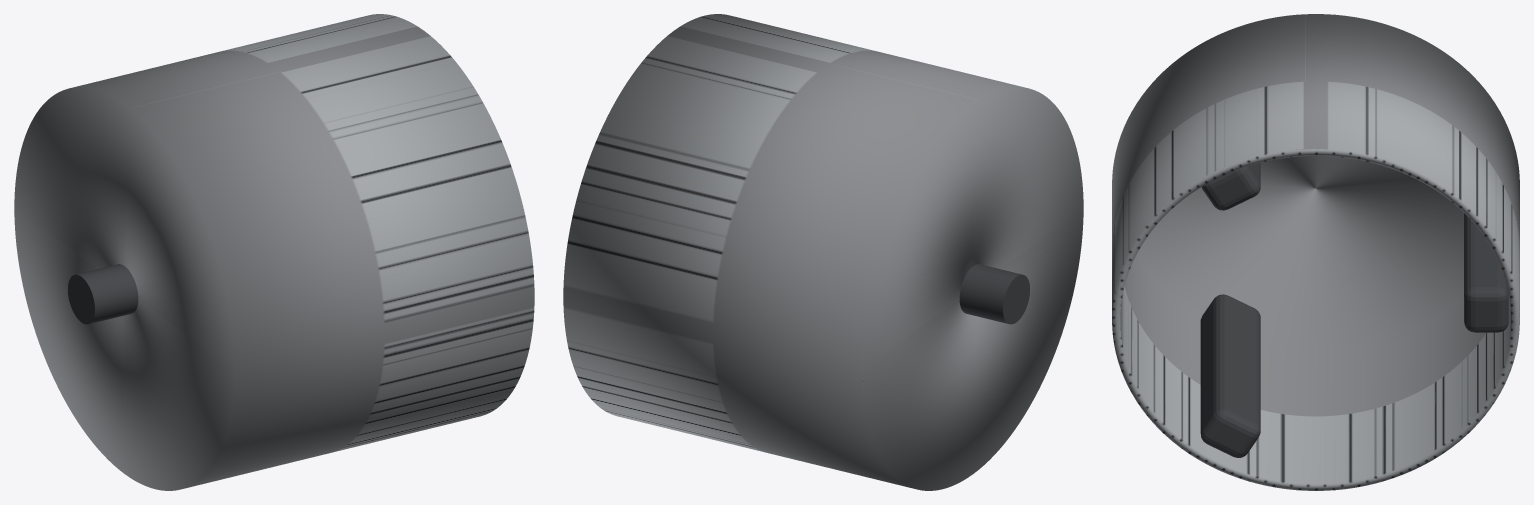
The picture shows the model from 3 angles, left to right: view 1: azimuth 30°, elevation 25°; view 2: azimuth 150°, elevation 25°; view 3: azimuth 270°, elevation 25°; orthographic projection. The views are drawn at different scales.
Visible parts, largest first — view 1: __articraft_commit_0006_0000, __articraft_commit_0006_0004; view 2: __articraft_commit_0006_0000, __articraft_commit_0006_0004; view 3: __articraft_commit_0006_0000, __articraft_commit_0006_0003, __articraft_commit_0006_0001, __articraft_commit_0006_0002.
Boxes of the visible parts, x1=… form: __articraft_commit_0006_0000: x1=14, y1=14, x2=534, y2=490; __articraft_commit_0006_0004: x1=68, y1=264, x2=138, y2=324; __articraft_commit_0006_0000: x1=563, y1=14, x2=1083, y2=490; __articraft_commit_0006_0004: x1=959, y1=264, x2=1029, y2=324; __articraft_commit_0006_0000: x1=1112, y1=14, x2=1519, y2=490; __articraft_commit_0006_0003: x1=1200, y1=294, x2=1260, y2=457; __articraft_commit_0006_0001: x1=1464, y1=213, x2=1508, y2=332; __articraft_commit_0006_0002: x1=1201, y1=163, x2=1260, y2=210.
Bounding box in the file's own units: 0.1308 × 0.135 × 0.146.
2 materials, 1 textured.
